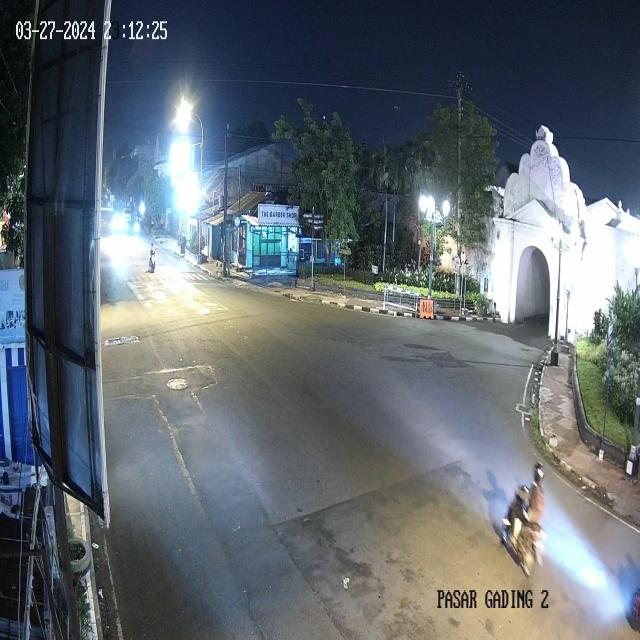car: (121, 204, 133, 224)
motorcycle: (500, 458, 549, 583), (148, 241, 158, 275)
